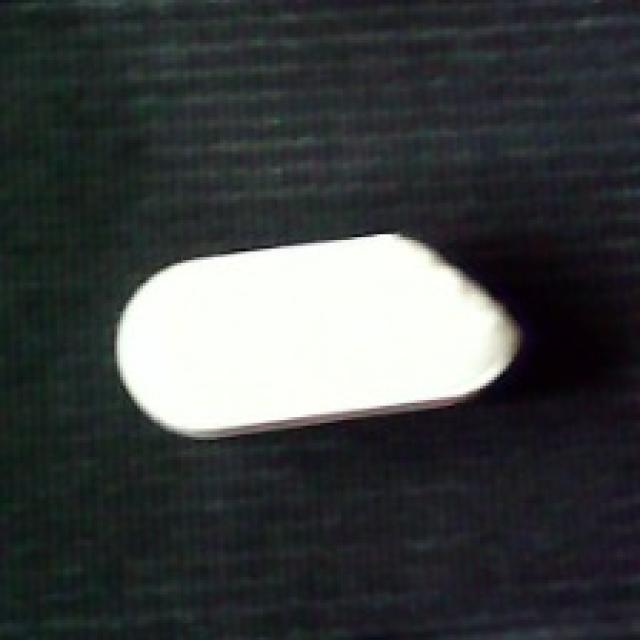defected: (111, 229, 526, 437)
